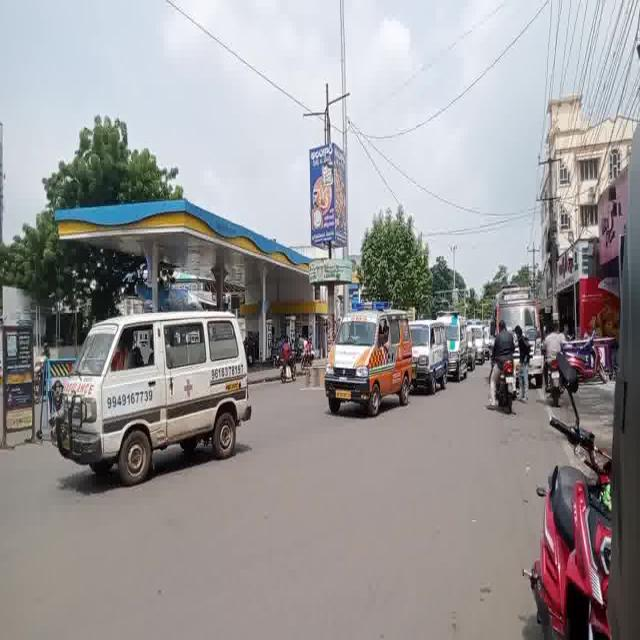ambulance: (49, 307, 270, 487), (318, 307, 415, 421), (487, 274, 551, 328), (419, 298, 443, 410), (450, 303, 476, 406)
